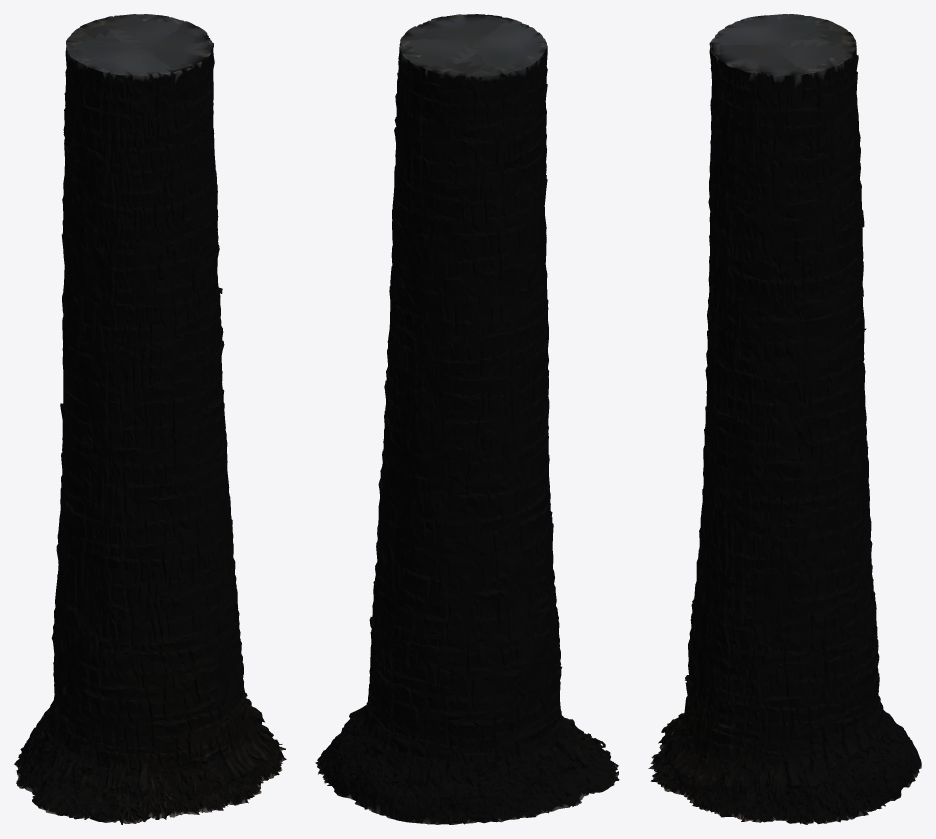
File: palm_sabal.glb
3 views of the same model, side by side, from view 1: azimuth 30°, elevation 25°; view 2: azimuth 150°, elevation 25°; view 3: azimuth 270°, elevation 25° (orthographic).
Visible parts, largest first — view 1: SabalPalmA; view 2: SabalPalmA; view 3: SabalPalmA.
Boxes of the visible parts, x1=… form: SabalPalmA: x1=14, y1=14, x2=286, y2=824; SabalPalmA: x1=315, y1=14, x2=619, y2=824; SabalPalmA: x1=648, y1=14, x2=921, y2=824.
Size of the model in its own units: 11.54 by 31.47 by 10.89.
1 material, 1 textured.
